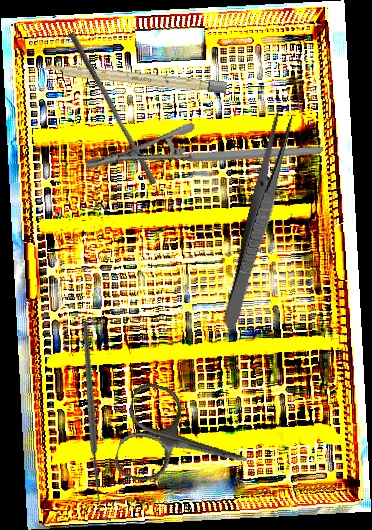Dressing Forceps: (220, 109, 297, 332)
Hook Surgical: (8, 318, 185, 523)
Iris Scissors: (111, 379, 260, 508)
Needle Holder: (83, 85, 324, 231)
Pusher: (62, 31, 162, 186)
Scalpel Handle: (39, 62, 228, 94)
